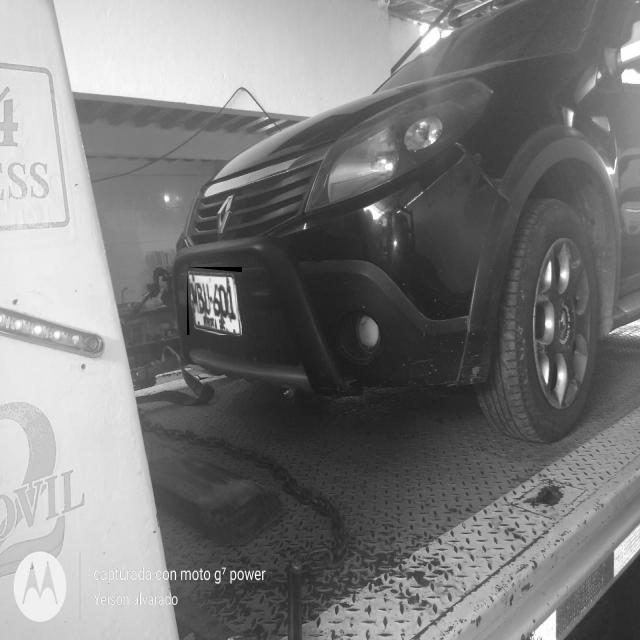plate: (188, 271, 242, 335)
